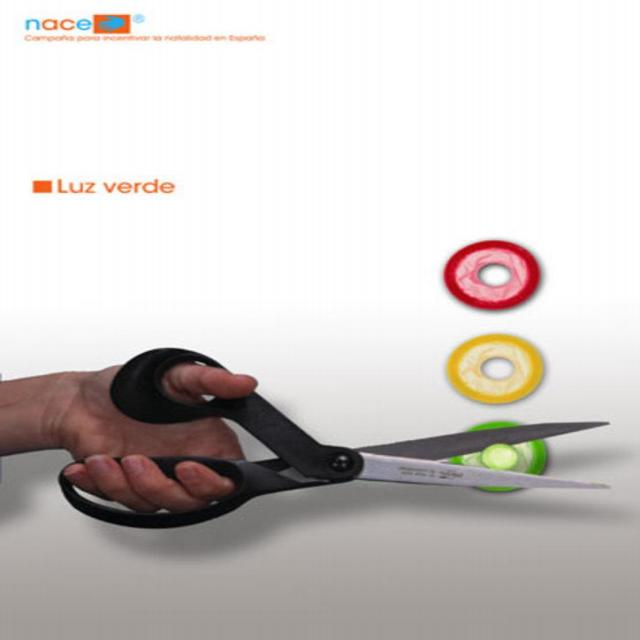scissor: (57, 352, 615, 543)
